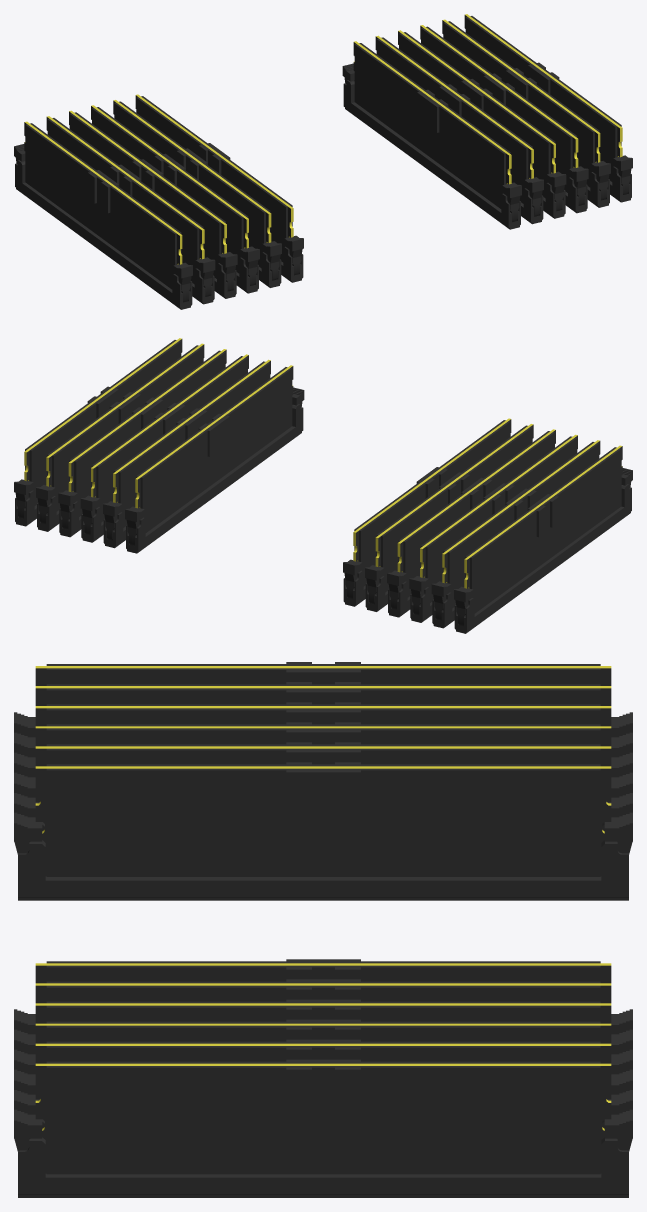
The model's file is cosmo-memory-0.glb.
3 renders of one model, top to bottom at view 1: azimuth 30°, elevation 25°; view 2: azimuth 150°, elevation 25°; view 3: azimuth 270°, elevation 25°, orthographic. The views are drawn at different scales.
Parts seen in each view (by area): view 1: MO-329 REV G DDR5 DIMM REP.015, MO-329 REV G DDR5 DIMM REP.002, MO-329 REV G DDR5 DIMM REP.014, MO-329 REV G DDR5 DIMM REP.020, MO-329 REV G DDR5 DIMM REP.013, MO-329 REV G DDR5 DIMM REP.012, MO-329 REV G DDR5 DIMM REP.021, Cube.009, MO-329 REV G DDR5 DIMM REP.016, MO-329 REV G DDR5 DIMM REP.017, MO-329 REV G DDR5 DIMM REP.019, MO-329 REV G DDR5 DIMM REP.018 (+12 smaller); view 2: MO-329 REV G DDR5 DIMM REP.015, MO-329 REV G DDR5 DIMM REP.002, MO-329 REV G DDR5 DIMM REP.014, MO-329 REV G DDR5 DIMM REP.019, Cube.009, MO-329 REV G DDR5 DIMM REP.012, MO-329 REV G DDR5 DIMM REP.013, MO-329 REV G DDR5 DIMM REP.021, MO-329 REV G DDR5 DIMM REP.020, MO-329 REV G DDR5 DIMM REP.016, MO-329 REV G DDR5 DIMM REP.017, MO-329 REV G DDR5 DIMM REP.018 (+12 smaller); view 3: Cube.009, MO-329 REV G DDR5 DIMM REP.012, CMP-002-00026-14_DDR5_288P_JEDEC_SO-023D_3SLOT_OPT2.019, CMP-002-00026-14_DDR5_288P_JEDEC_SO-023D_3SLOT_OPT2.024, MO-329 REV G DDR5 DIMM REP.014, MO-329 REV G DDR5 DIMM REP.021, MO-329 REV G DDR5 DIMM REP.018, MO-329 REV G DDR5 DIMM REP.002, MO-329 REV G DDR5 DIMM REP.016, MO-329 REV G DDR5 DIMM REP.017, MO-329 REV G DDR5 DIMM REP.019, MO-329 REV G DDR5 DIMM REP.020 (+12 smaller).
Boxes of the visible parts, x1,y1,x2,y2 form: MO-329 REV G DDR5 DIMM REP.015: [24, 121, 182, 289]; MO-329 REV G DDR5 DIMM REP.002: [353, 41, 511, 208]; MO-329 REV G DDR5 DIMM REP.014: [442, 19, 600, 187]; MO-329 REV G DDR5 DIMM REP.020: [375, 35, 533, 203]; MO-329 REV G DDR5 DIMM REP.013: [46, 116, 204, 284]; MO-329 REV G DDR5 DIMM REP.012: [135, 94, 293, 262]; MO-329 REV G DDR5 DIMM REP.021: [113, 100, 271, 268]; Cube.009: [464, 14, 622, 181]; MO-329 REV G DDR5 DIMM REP.016: [420, 25, 578, 192]; MO-329 REV G DDR5 DIMM REP.017: [69, 110, 226, 278]; MO-329 REV G DDR5 DIMM REP.019: [91, 105, 248, 273]; MO-329 REV G DDR5 DIMM REP.018: [398, 30, 555, 198]; MO-329 REV G DDR5 DIMM REP.015: [464, 445, 622, 613]; MO-329 REV G DDR5 DIMM REP.002: [135, 365, 293, 532]; MO-329 REV G DDR5 DIMM REP.014: [46, 343, 204, 511]; MO-329 REV G DDR5 DIMM REP.019: [397, 429, 555, 597]; Cube.009: [24, 338, 182, 505]; MO-329 REV G DDR5 DIMM REP.012: [353, 418, 511, 586]; MO-329 REV G DDR5 DIMM REP.013: [442, 440, 600, 608]; MO-329 REV G DDR5 DIMM REP.021: [375, 424, 533, 592]; MO-329 REV G DDR5 DIMM REP.020: [113, 359, 270, 527]; MO-329 REV G DDR5 DIMM REP.016: [68, 349, 226, 516]; MO-329 REV G DDR5 DIMM REP.017: [420, 434, 577, 602]; MO-329 REV G DDR5 DIMM REP.018: [91, 354, 248, 522]; Cube.009: [35, 1059, 611, 1174]; MO-329 REV G DDR5 DIMM REP.012: [35, 762, 611, 876]; CMP-002-00026-14_DDR5_288P_JEDEC_SO-023D_3SLOT_OPT2.019: [14, 1109, 632, 1197]; CMP-002-00026-14_DDR5_288P_JEDEC_SO-023D_3SLOT_OPT2.024: [14, 812, 632, 900]; MO-329 REV G DDR5 DIMM REP.014: [35, 1039, 611, 1099]; MO-329 REV G DDR5 DIMM REP.021: [35, 742, 611, 801]; MO-329 REV G DDR5 DIMM REP.018: [35, 999, 611, 1023]; MO-329 REV G DDR5 DIMM REP.002: [35, 959, 611, 983]; MO-329 REV G DDR5 DIMM REP.016: [35, 1019, 611, 1043]; MO-329 REV G DDR5 DIMM REP.017: [35, 702, 611, 726]; MO-329 REV G DDR5 DIMM REP.019: [35, 722, 611, 746]; MO-329 REV G DDR5 DIMM REP.020: [35, 979, 611, 1003].
Size of the model in its own units: 0.2239 by 0.0329 by 0.1434.
